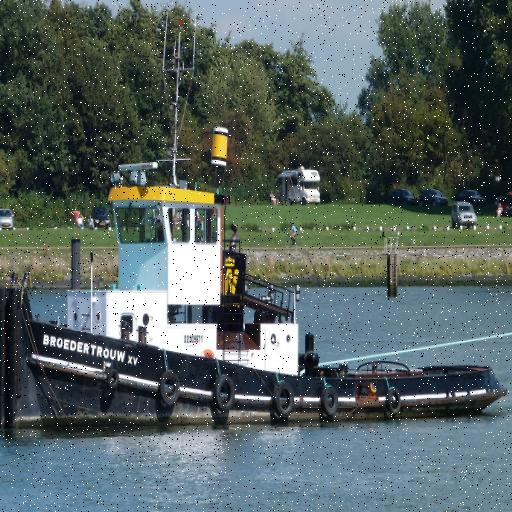tugboat: (1, 9, 512, 463)
